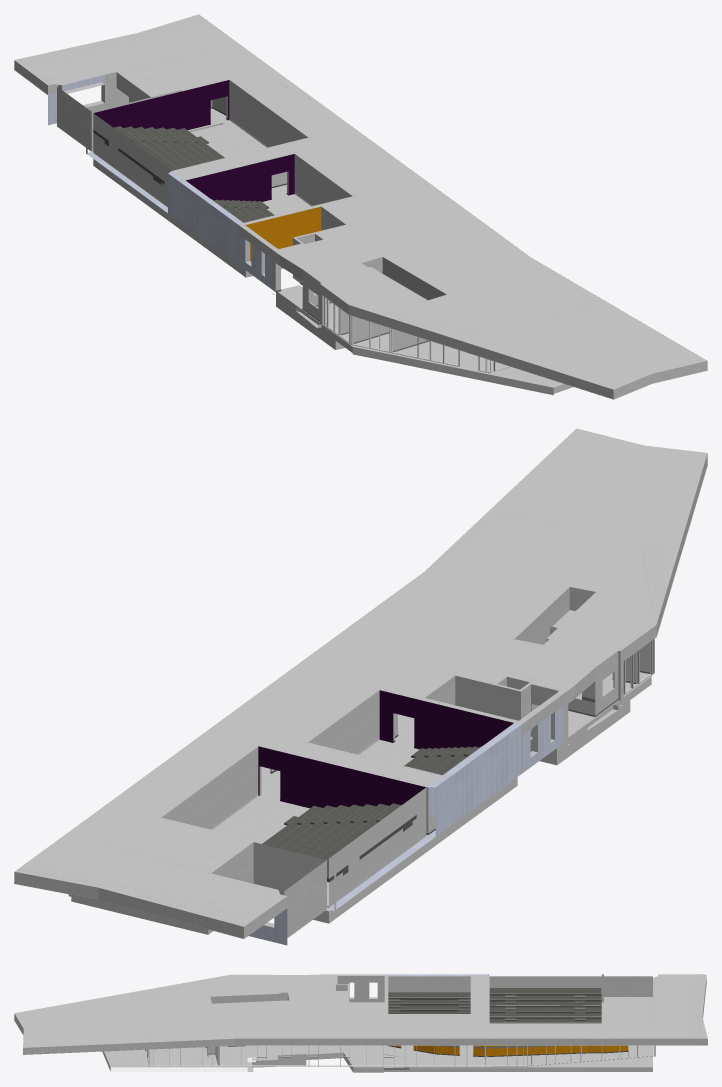
File: 0_floor_aisle_b_sized.glb
The picture shows the model from 3 angles, top to bottom: view 1: azimuth 30°, elevation 25°; view 2: azimuth 150°, elevation 25°; view 3: azimuth 270°, elevation 25°; orthographic projection. The views are drawn at different scales.
Parts seen in each view (by area): view 1: Cube_065, Cube_030, Cube_012; view 2: Cube_065, Cube_030, Cube_012; view 3: Cube_065, Cube_030, Cube_012.
Boxes of the visible parts, x1,y1,x2,y2 form: Cube_065: (14, 14, 707, 399); Cube_030: (48, 60, 538, 373); Cube_012: (93, 108, 572, 395); Cube_065: (14, 428, 707, 938); Cube_030: (143, 562, 654, 945); Cube_012: (68, 672, 651, 934); Cube_065: (14, 974, 707, 1054); Cube_030: (145, 974, 657, 1066); Cube_012: (102, 1045, 652, 1072).
Size of what is drawn, in the model's own units: 19.02 by 4.99 by 75.13.
Materials: 17 (9 with a texture image).
